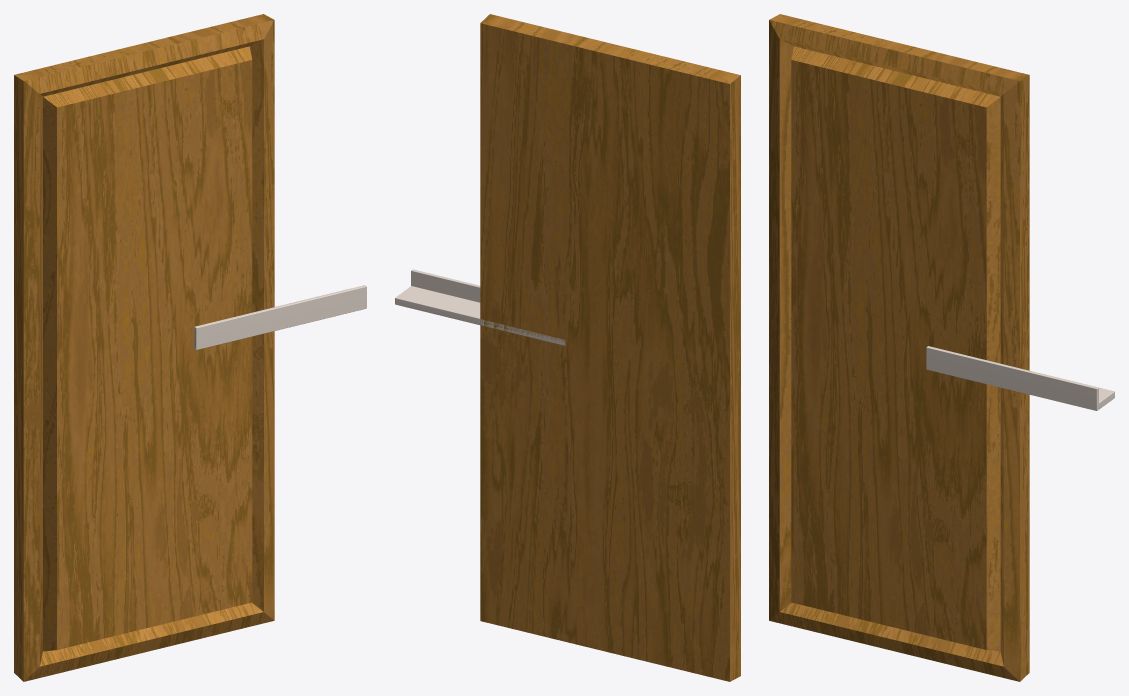
File: Cabinet_bcabd691.obj
The picture shows the model from 3 angles, left to right: view 1: azimuth 30°, elevation 25°; view 2: azimuth 150°, elevation 25°; view 3: azimuth 330°, elevation 25°; orthographic projection.
Parts seen in each view (by area): view 1: Mesh_11225894, handle_3_178mm_01_984459d7; view 2: Mesh_11225894, handle_3_178mm_01_984459d7; view 3: Mesh_11225894, handle_3_178mm_01_984459d7.
Boxes of the visible parts, x1,y1,x2,y2 form: Mesh_11225894: (14,14,274,681); handle_3_178mm_01_984459d7: (194,285,366,349); Mesh_11225894: (480,14,740,681); handle_3_178mm_01_984459d7: (395,269,565,345); Mesh_11225894: (769,14,1029,681); handle_3_178mm_01_984459d7: (926,346,1114,410).
Bounding box in the file's own units: 0.3497 × 0.598 × 0.0326.
